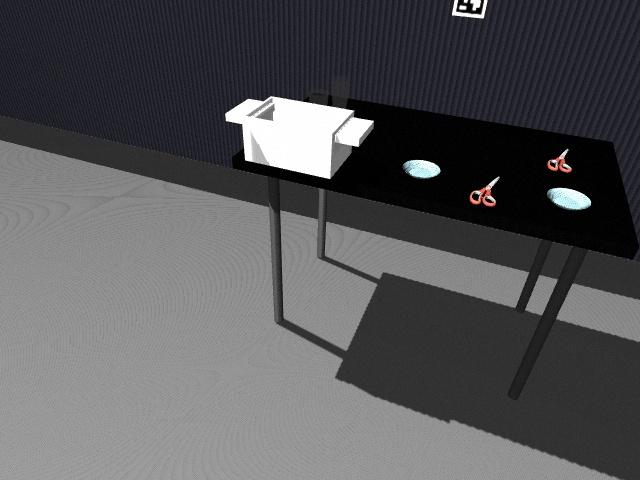cup: (331, 75, 349, 107), (306, 91, 330, 107)
plate: (545, 186, 594, 211), (401, 159, 441, 179)
scissors: (468, 175, 500, 207), (548, 147, 572, 171)
